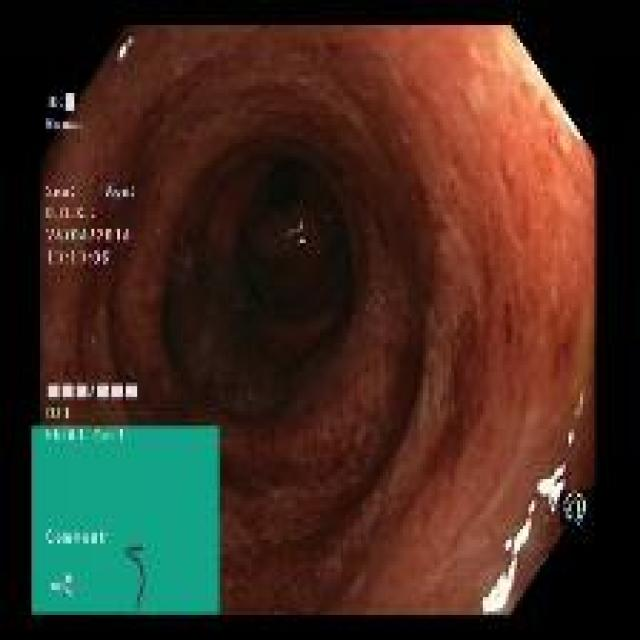ulcerative-colitis: (41, 27, 595, 615)
